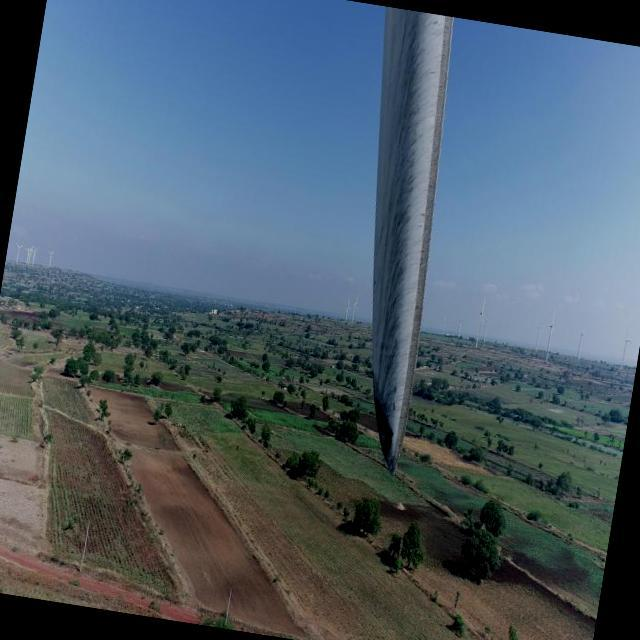Dirt: (370, 0, 452, 473)
Oil LEAKAGE: (371, 373, 400, 468)
